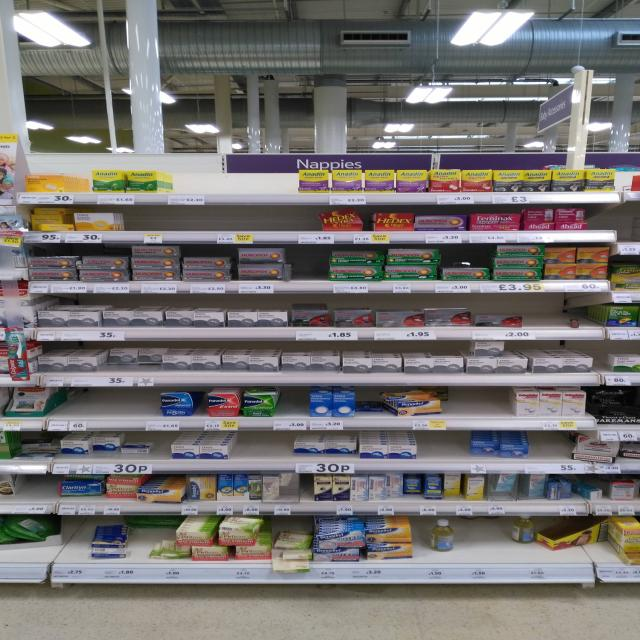void: (456, 518, 496, 578), (572, 515, 605, 580), (0, 477, 50, 518), (242, 433, 290, 470), (425, 434, 465, 475), (292, 245, 322, 295), (537, 433, 574, 473), (538, 520, 566, 572), (201, 167, 238, 206), (530, 294, 557, 342), (478, 388, 508, 431), (59, 388, 88, 432), (93, 388, 120, 435), (221, 206, 253, 244), (124, 388, 152, 431), (66, 520, 87, 576), (581, 294, 605, 342), (169, 167, 199, 205), (448, 387, 473, 432), (592, 205, 622, 242), (288, 205, 314, 247), (241, 167, 268, 206), (160, 206, 187, 245), (191, 205, 218, 244), (125, 206, 155, 241), (271, 166, 298, 204), (258, 204, 284, 243)
